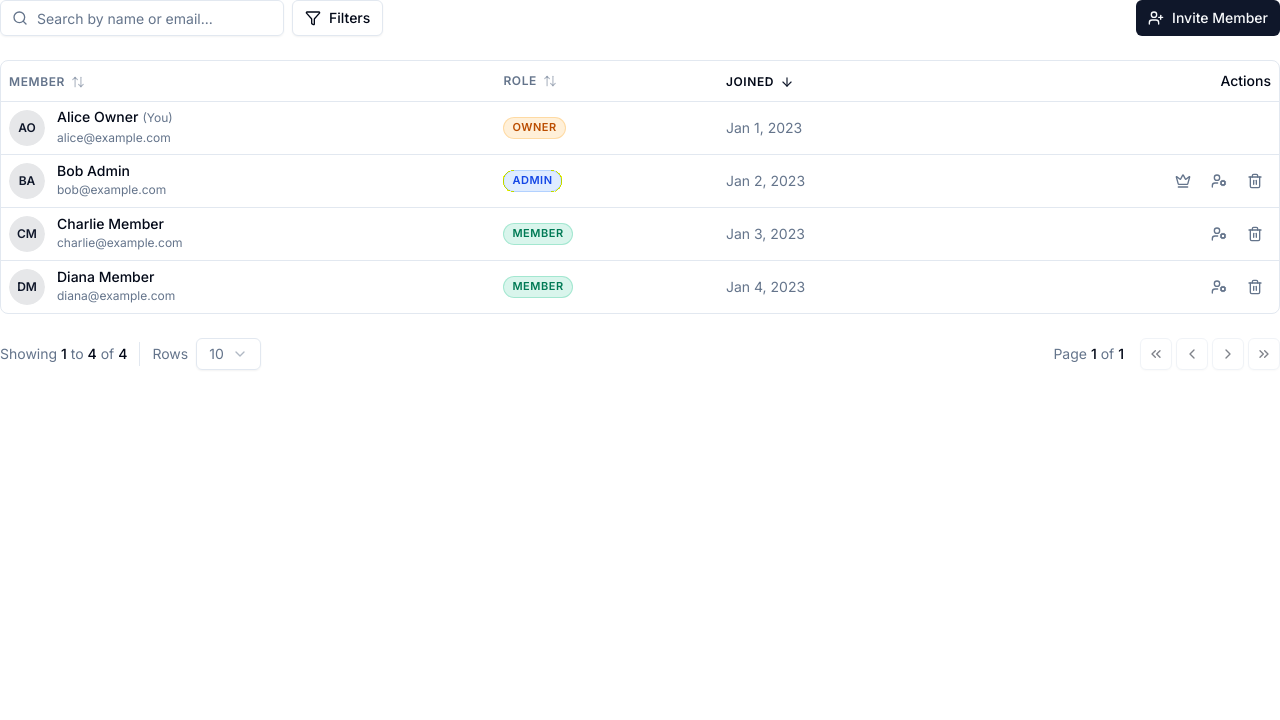
it: Members Management (integration) › should open and close the remove member dialog
Note: Click remove for one of the members
Click the button named "remove": coordinates (1255, 180) [1239,164,1271,196]
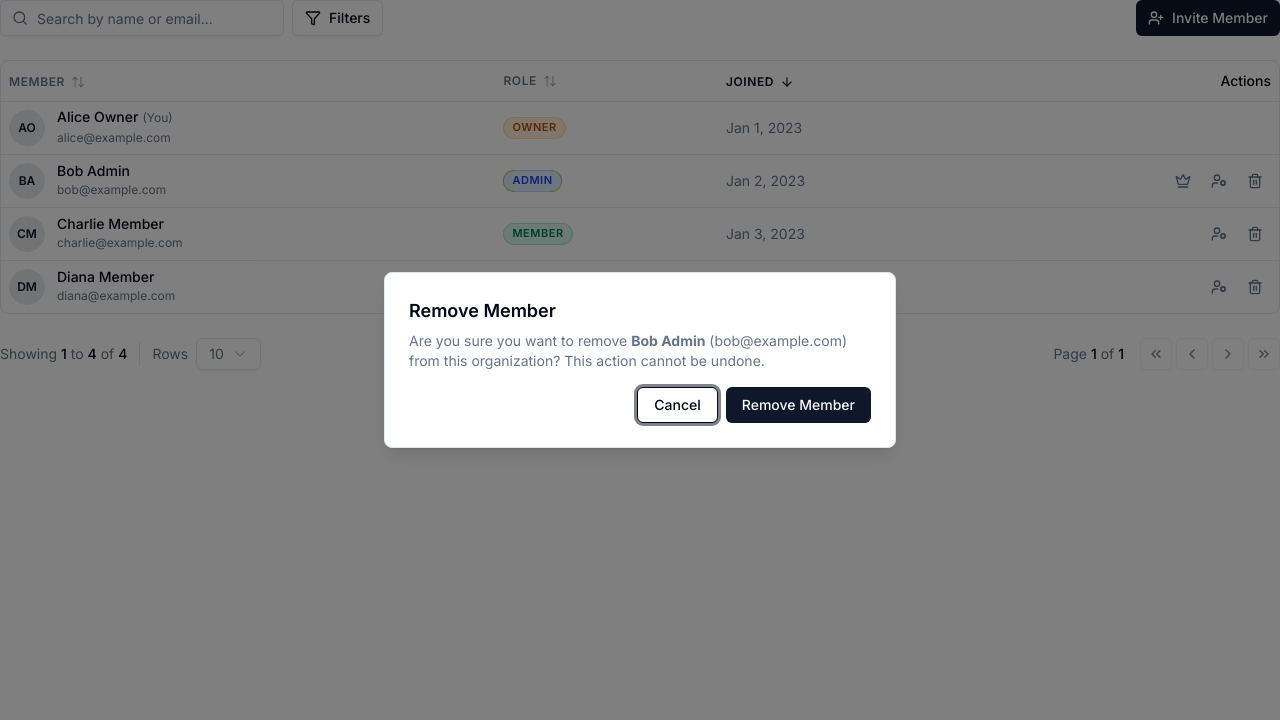
Check: the dialog is shown, box [384,272,896,448]
Check: the text "Are you sure you want to remove" is shown, box [409,332,631,349]
Note: Cancel should close it
Click the button "Cancel": coordinates (678, 405) [637,387,718,423]
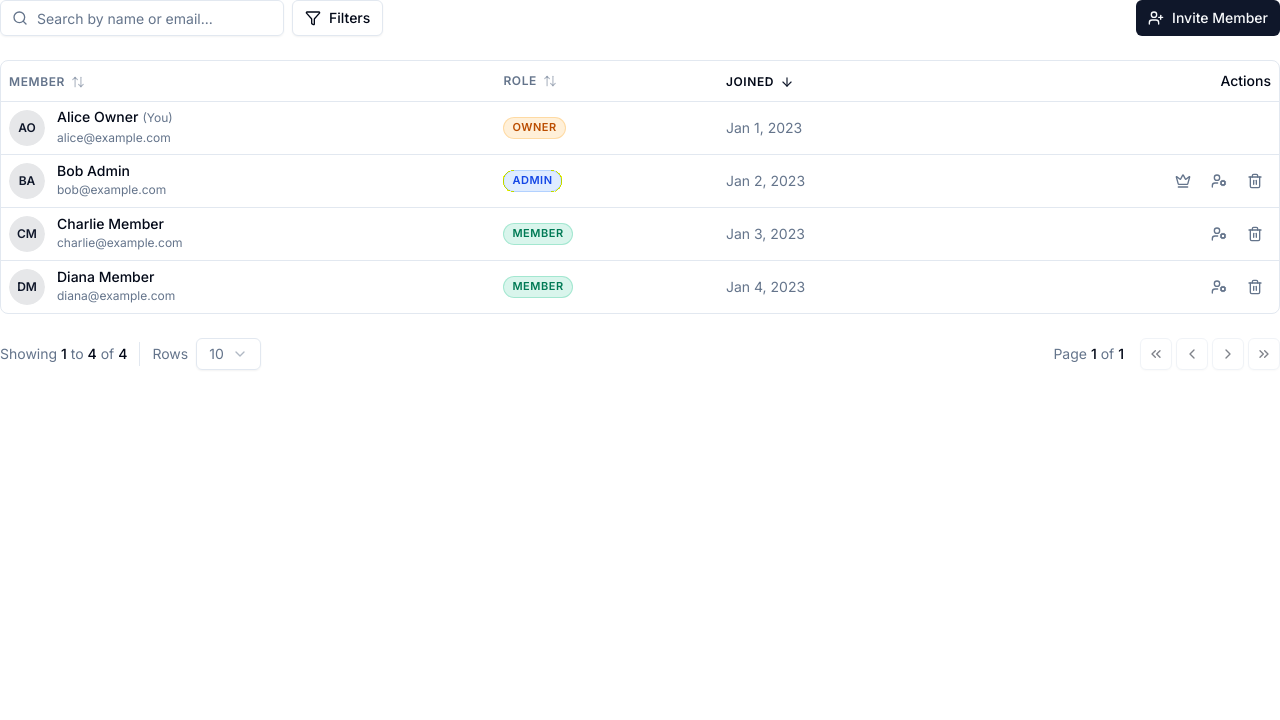
Check: the dialog is gone
